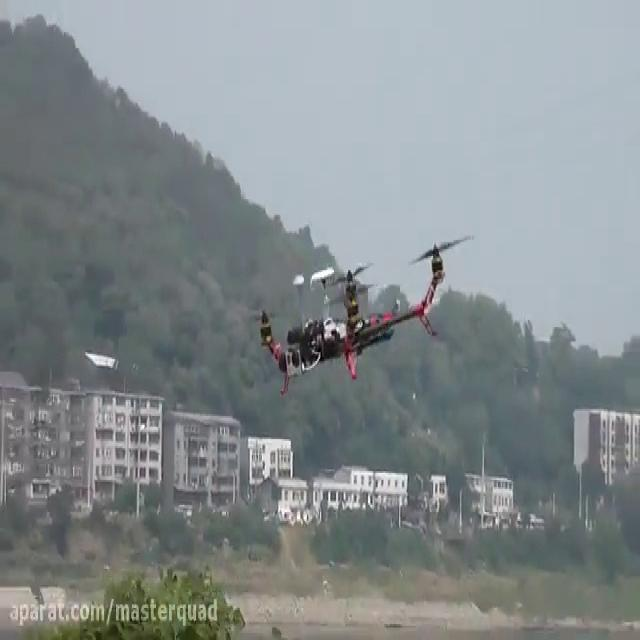drone: (243, 228, 475, 396)
